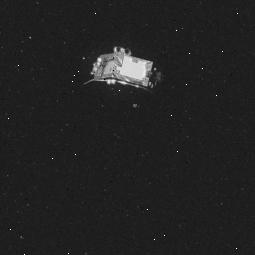lisa_pathfinder: (66, 46, 184, 113)
